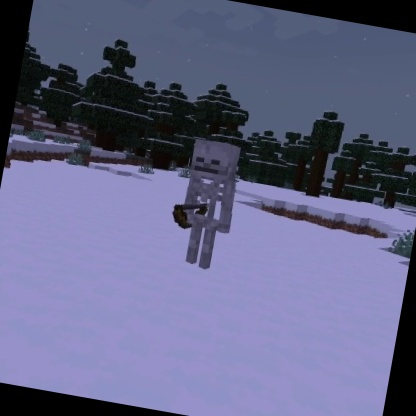skeleton: (160, 132, 249, 277)
